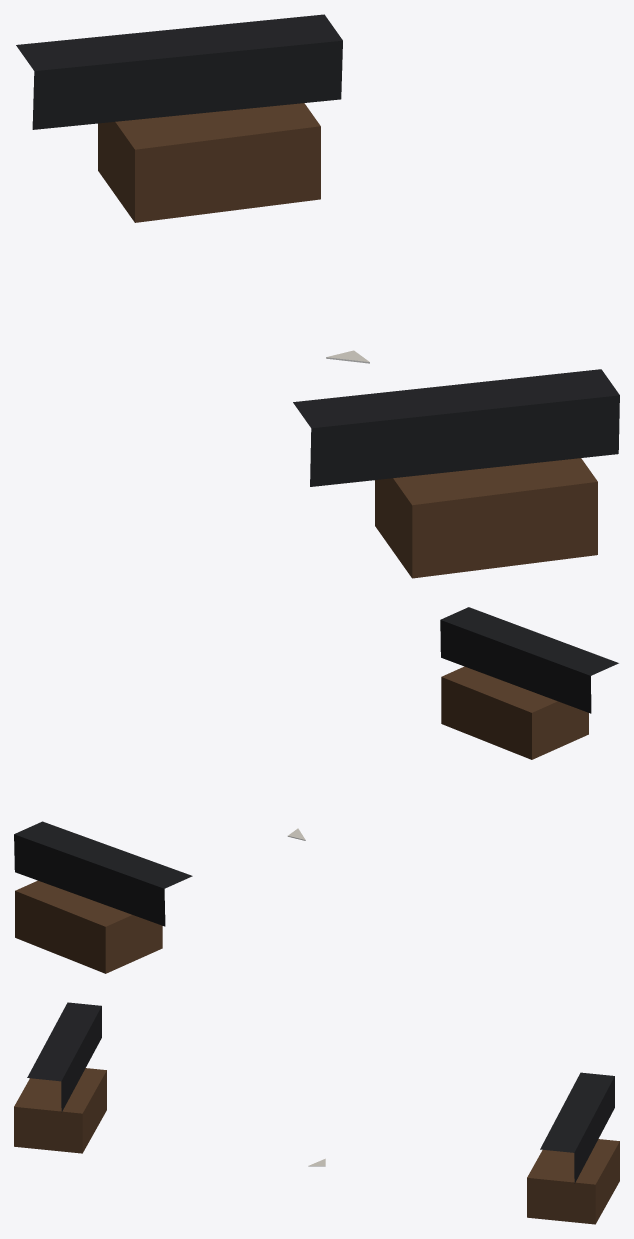
The model's file is fz_cannons.glb.
The picture shows the model from 3 angles, top to bottom: view 1: azimuth 30°, elevation 25°; view 2: azimuth 150°, elevation 25°; view 3: azimuth 270°, elevation 25°; orthographic projection. The views are drawn at different scales.
Visible parts, largest first — view 1: fz_cannons_lod0; view 2: fz_cannons_lod0; view 3: fz_cannons_lod0.
Boxes of the visible parts, x1,y1,x2,y2 form: fz_cannons_lod0: [16, 14, 619, 578]; fz_cannons_lod0: [14, 607, 618, 973]; fz_cannons_lod0: [14, 1002, 619, 1224].
Size of what is drawn, in the model's own units: 3.42 by 1.26 by 6.88.
